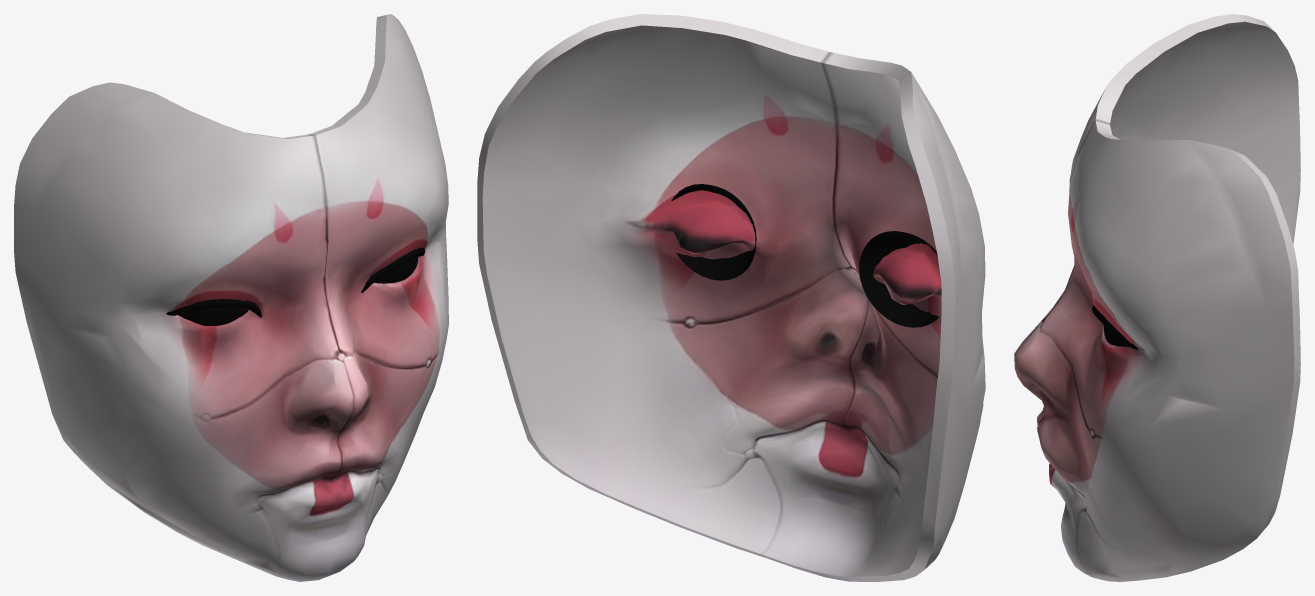
3 renders of one model, left to right at view 1: azimuth 30°, elevation 25°; view 2: azimuth 150°, elevation 25°; view 3: azimuth 270°, elevation 25°, orthographic. The views are drawn at different scales.
Visible parts, largest first — view 1: object 2, object 1, GeishaMask_Decimation1_5; view 2: object 2, object 1; view 3: object 2.
Boxes of the visible parts, bbox=[...] form: object 2: bbox=[14, 14, 448, 581]; object 1: bbox=[179, 256, 418, 325]; GeishaMask_Decimation1_5: bbox=[166, 247, 425, 317]; object 2: bbox=[477, 14, 985, 581]; object 1: bbox=[671, 184, 938, 327]; object 2: bbox=[1014, 14, 1300, 581].
Bounding box in the file's own units: 1.76 × 2 × 1.05.
3 materials, 3 textured.
